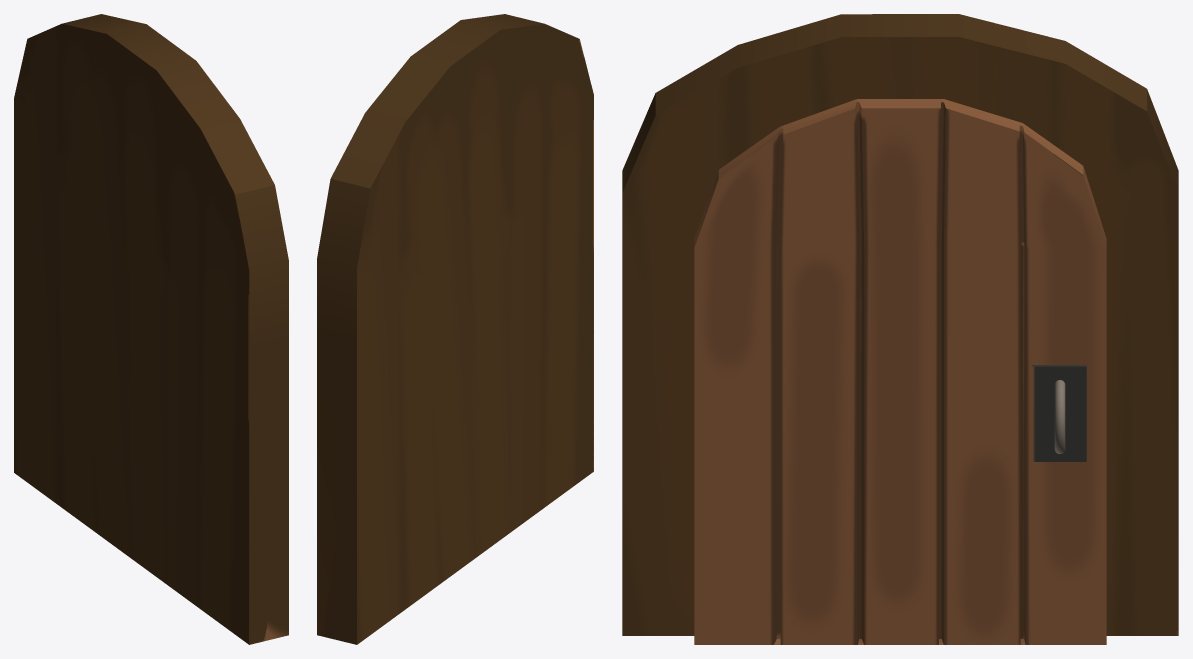
File: door.fbx
The picture shows the model from 3 angles, left to right: view 1: azimuth 30°, elevation 25°; view 2: azimuth 150°, elevation 25°; view 3: azimuth 270°, elevation 25°; orthographic projection. The views are drawn at different scales.
Parts seen in each view (by area): view 1: Box012; view 2: Box012; view 3: Box012.
Boxes of the visible parts, box(x1,y1,x2,y2) form: Box012: box(14, 14, 288, 644); Box012: box(317, 14, 593, 644); Box012: box(622, 14, 1178, 644).
Bounding box in the file's own units: 43.53 × 251 × 211.
1 material, 1 textured.
